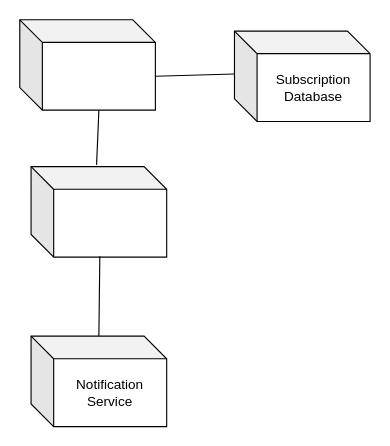
This 390x446 diagram has some shape labels left out. The centre of each missing label's shape, as x and y in pixels:
"Catalog" goes at point (87, 64).
"Subscription Management" goes at point (98, 211).
